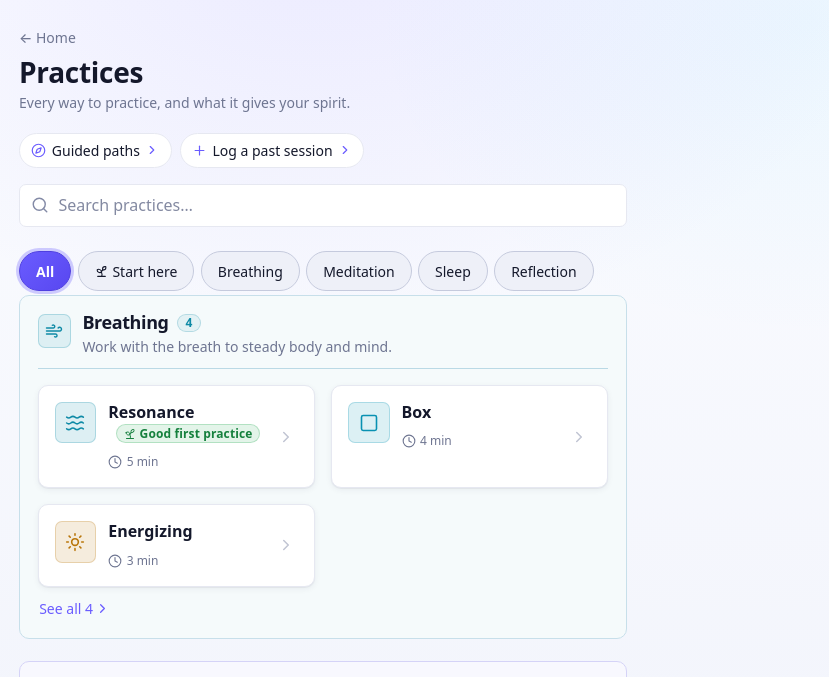
Test: PracticesPage — search filter › clears the query via the × clear button
The image size is (829, 677).
Type "resonance" into the search field labelled "Search practices…".
click(323, 205); type("resonance")  # box [19,184,627,227]
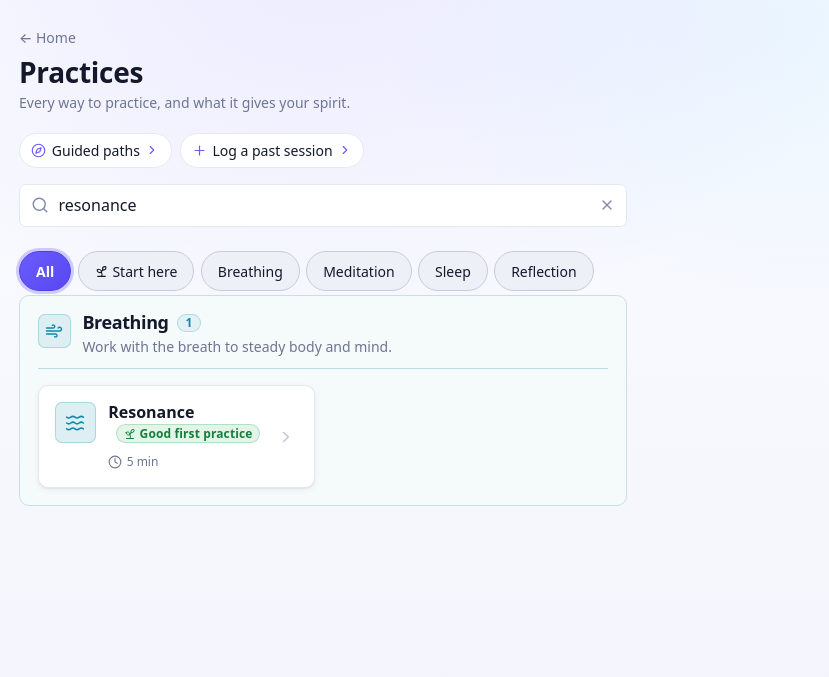
Click the button named "clear search".
click(607, 205)  # box [595,193,619,217]
(page scrolled)
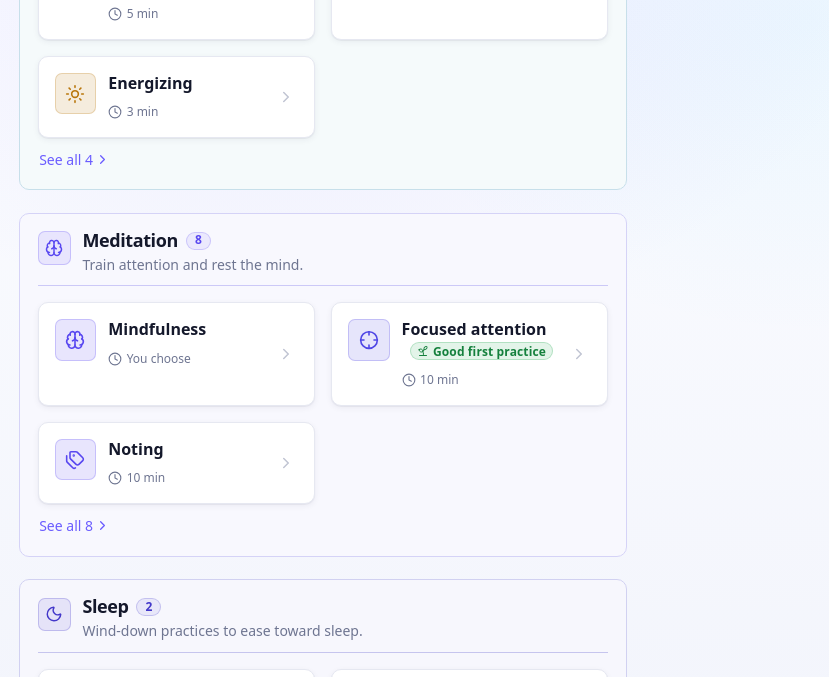
Expected: the link "Mindfulness You choose" is shown, [38,302,315,406]
